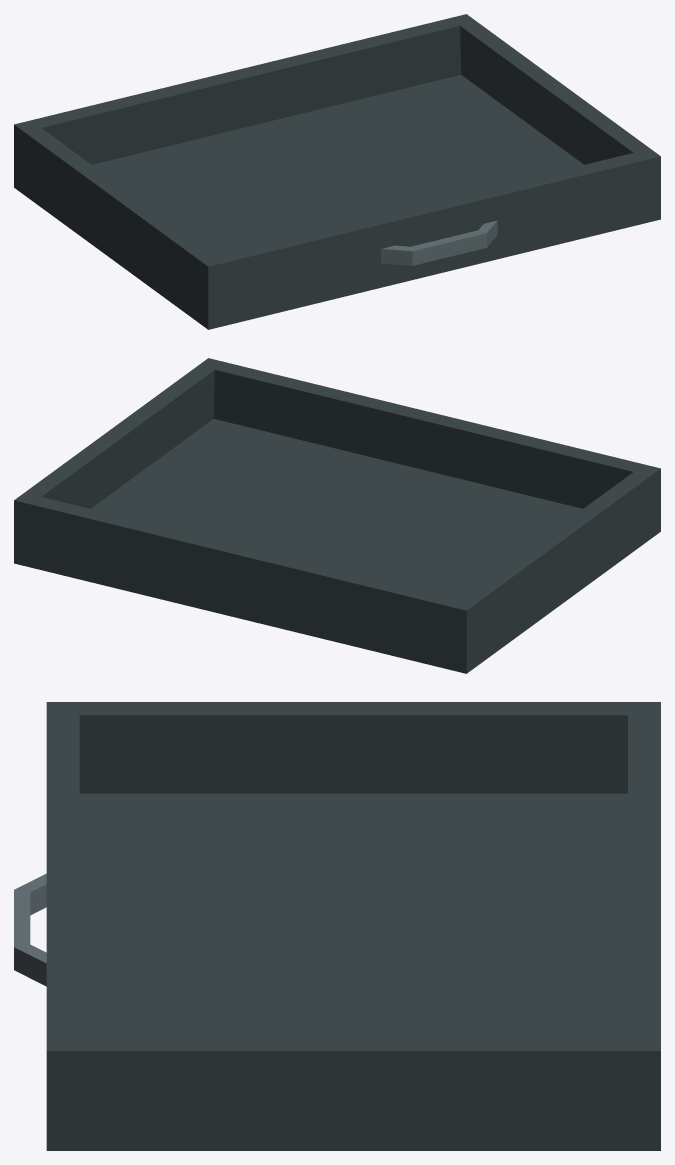
The model's file is mesh_cashout_Tray_01.fbx.
3 views of the same model, one above another, from view 1: azimuth 30°, elevation 25°; view 2: azimuth 150°, elevation 25°; view 3: azimuth 270°, elevation 25° (orthographic). The views are drawn at different scales.
Parts seen in each view (by area): view 1: Cash tray handle; view 2: Cash tray handle; view 3: Cash tray handle.
Boxes of the visible parts, x1,y1,x2,y2 form: Cash tray handle: (14, 14, 660, 329); Cash tray handle: (14, 358, 660, 673); Cash tray handle: (14, 702, 660, 1150).
Size of the model in its own units: 0.0041 by 0.000547 by 0.00321.
